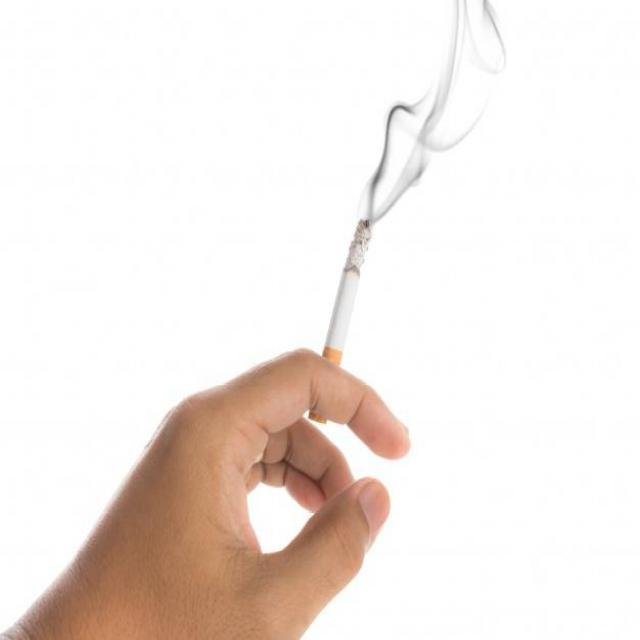cigarette: (316, 198, 386, 372)
